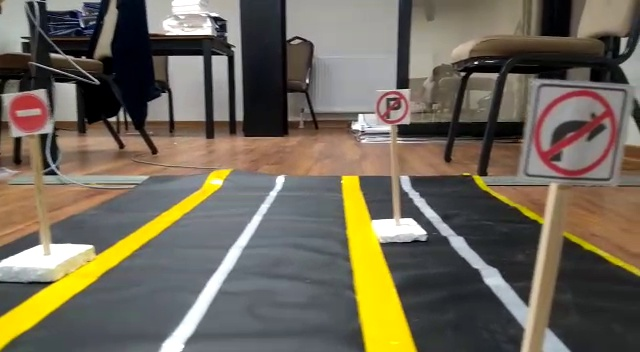girisi_olmayan_yol: (7, 95, 50, 136)
park_yapilmaz: (374, 87, 411, 124)
saga_donulmez: (535, 76, 615, 180)
